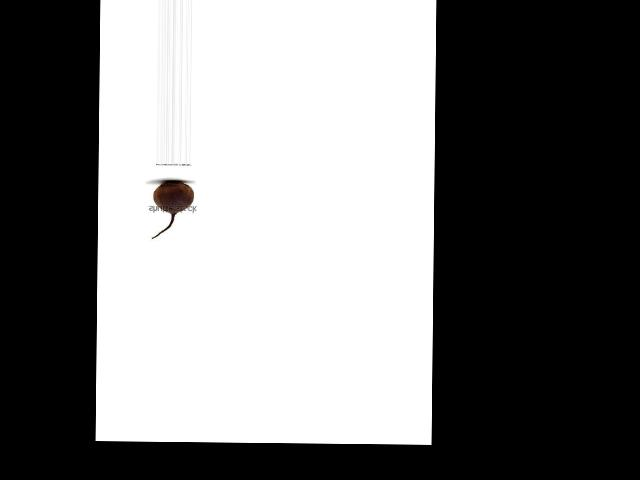beet: (152, 180, 195, 239)
